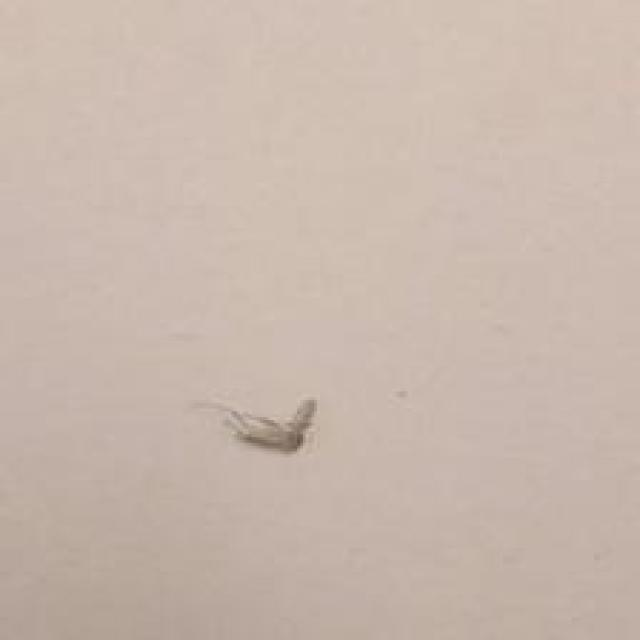Culex: (222, 396, 318, 453)
